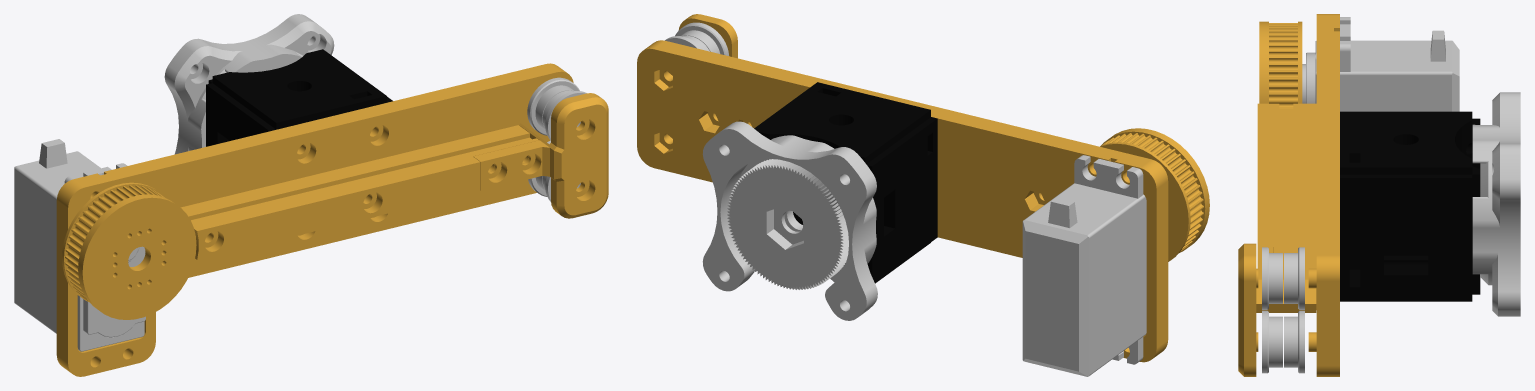
The model's file is gripperBase.obj.
The picture shows the model from 3 angles, left to right: view 1: azimuth 30°, elevation 25°; view 2: azimuth 150°, elevation 25°; view 3: azimuth 270°, elevation 25°; orthographic projection. The views are drawn at different scales.
Parts seen in each view (by area): view 1: gripper; view 2: gripper; view 3: gripper.
Part boxes in pixels (x1,y1,x2,y2): gripper: [14, 14, 608, 376]; gripper: [637, 14, 1209, 376]; gripper: [1238, 14, 1520, 376].
Size of the model in its own units: 15.95 by 6.3 by 7.25.
